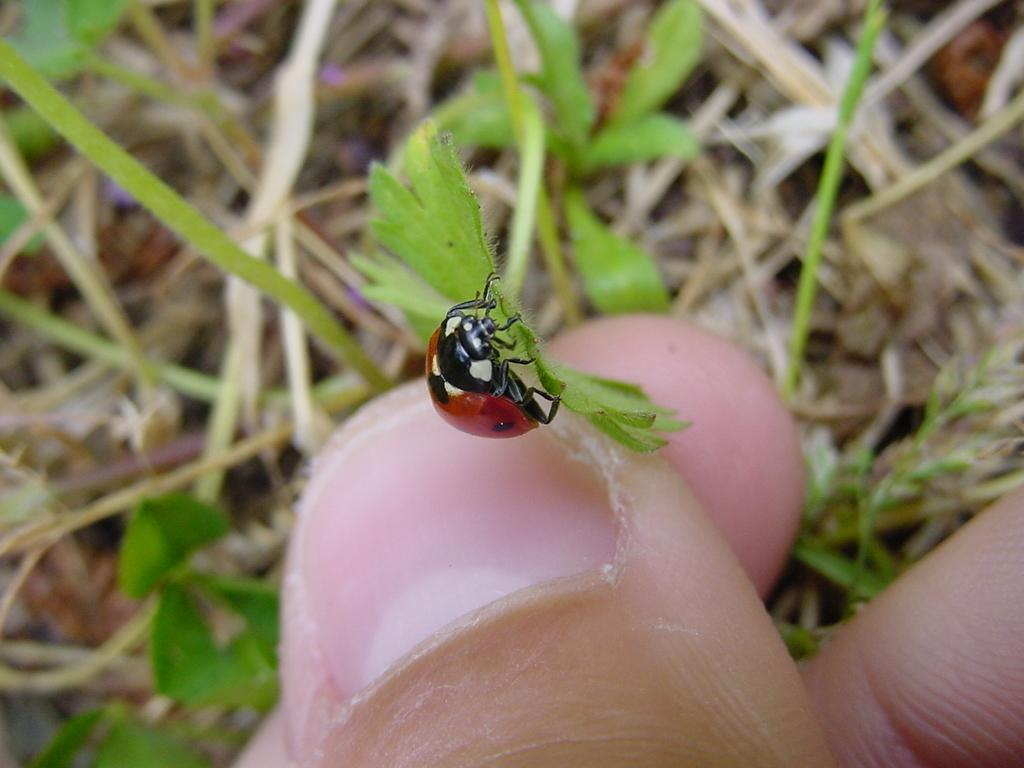ladybug: (421, 267, 567, 445)
